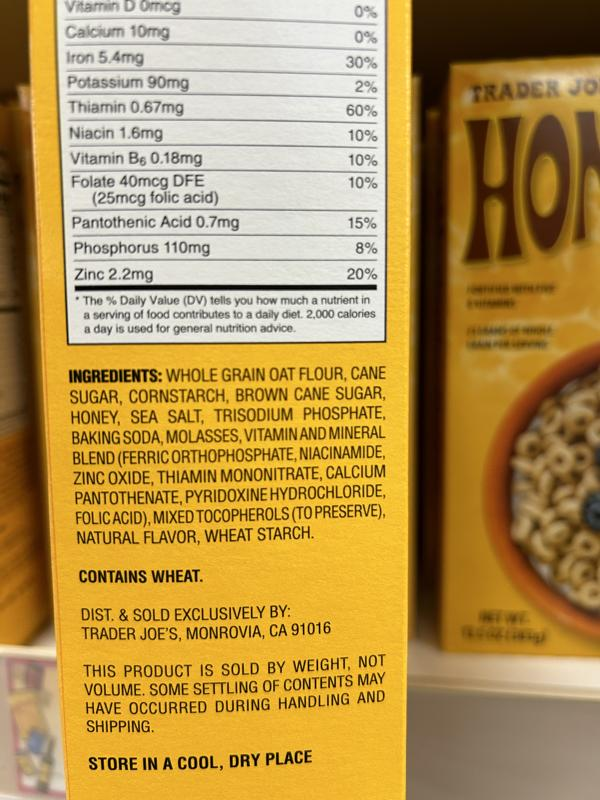ingredients: (66, 365, 389, 547)
